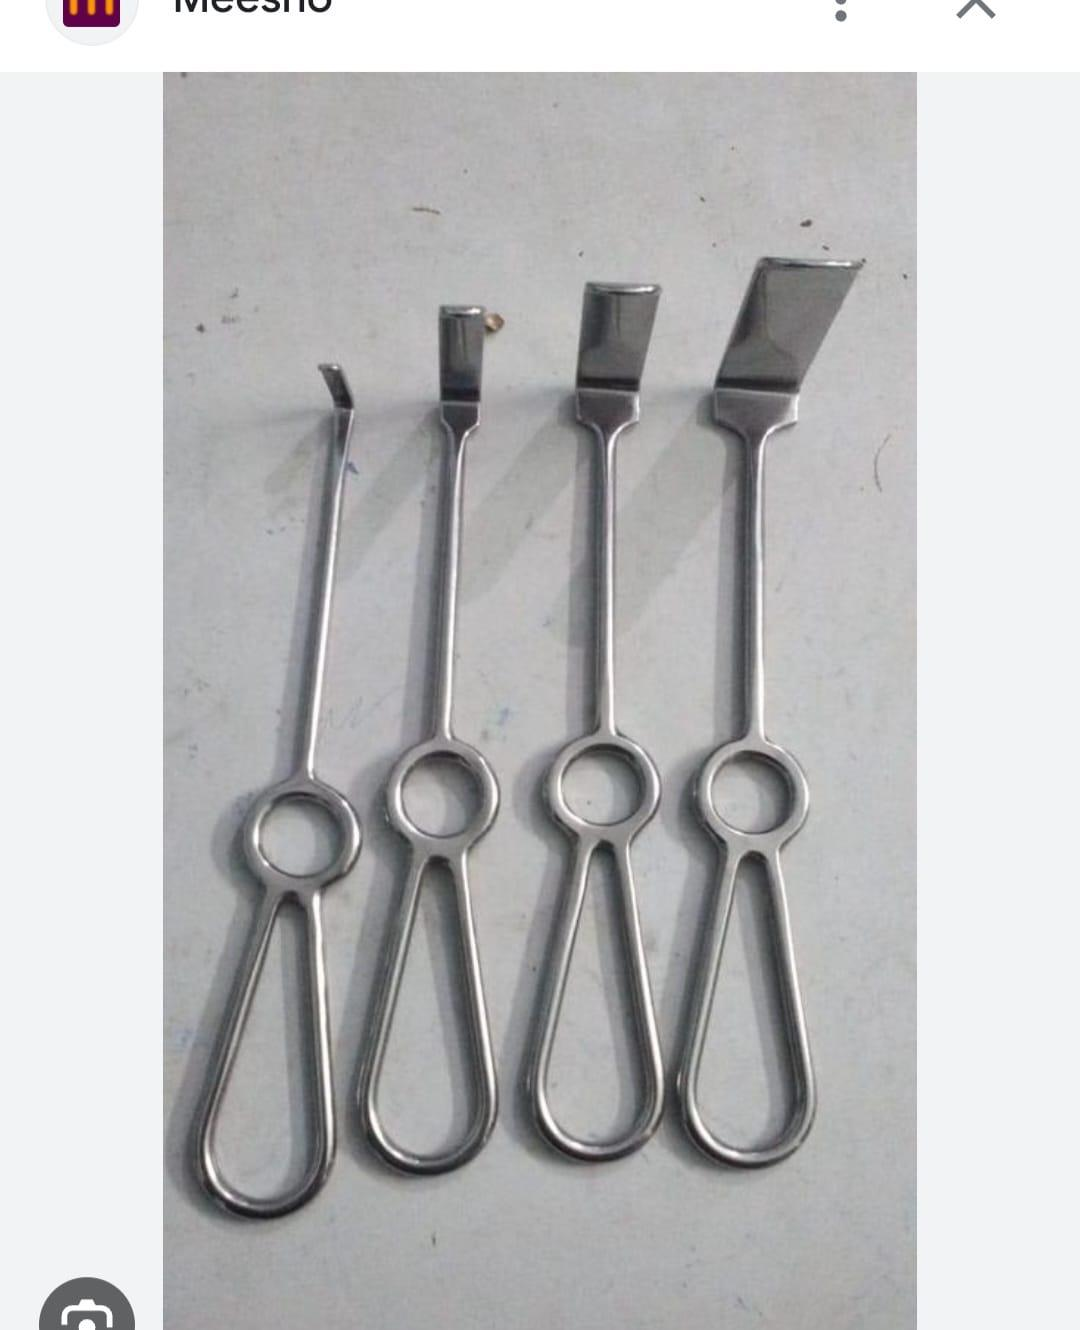Langenbach Retractor: (672, 246, 882, 1176), (520, 272, 666, 1156), (356, 296, 504, 1160)
